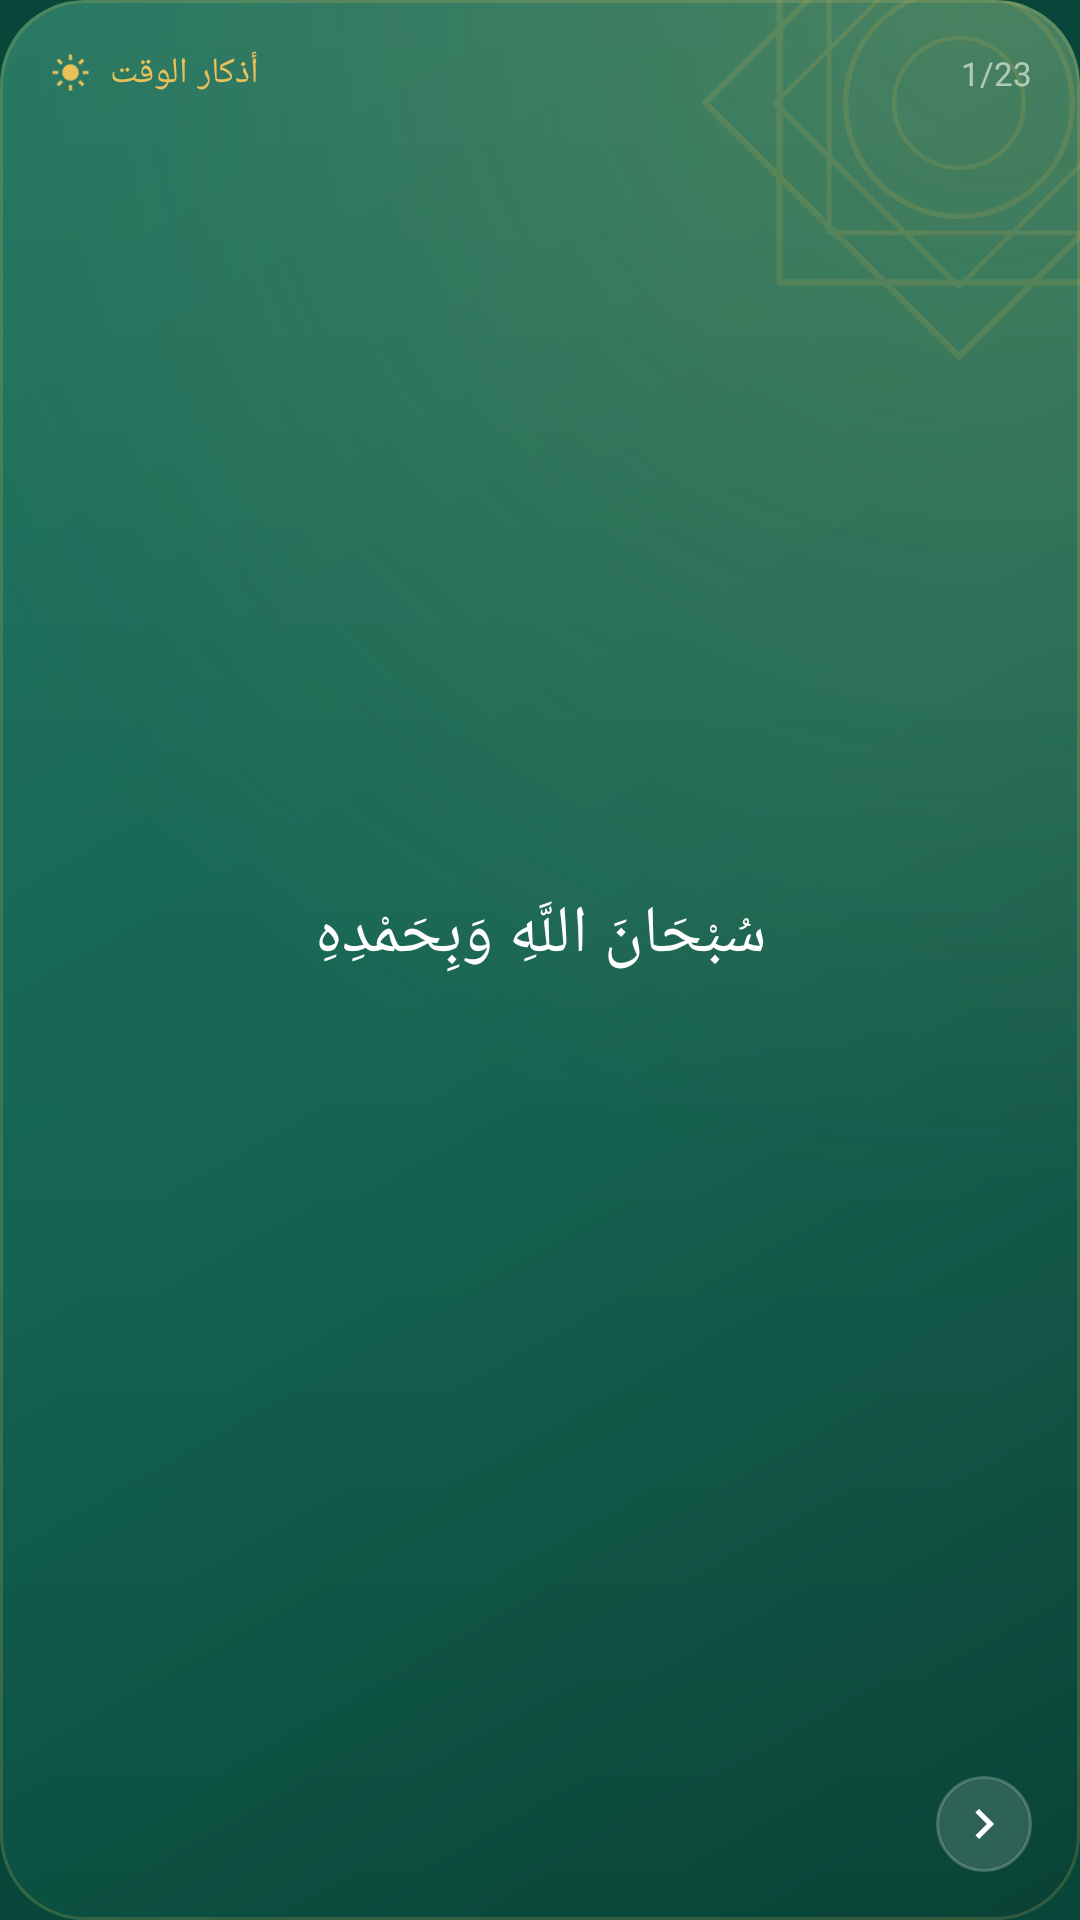

Icons on this 1080px×1920px Android screen, each with its box as detection(x1, y1, x2, y2):
sun: detection(52, 54, 89, 91)
التالي: detection(936, 1776, 1032, 1872)
